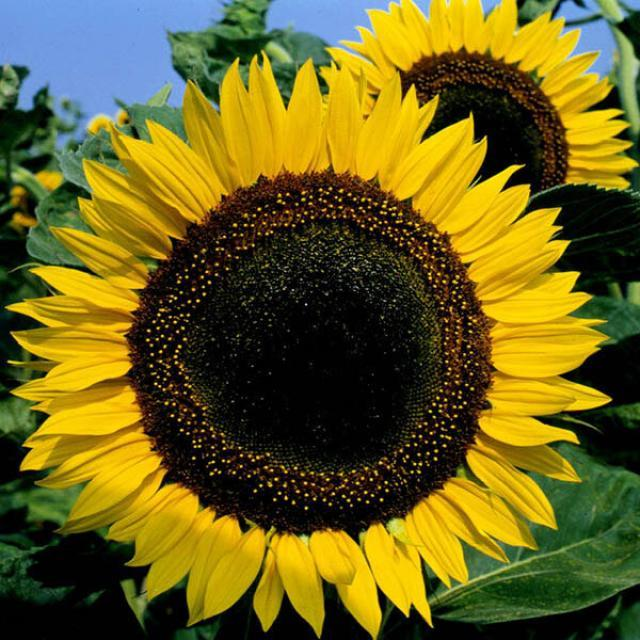sunflower: (6, 48, 614, 638), (322, 0, 637, 196), (8, 170, 63, 227), (88, 115, 111, 135), (116, 109, 132, 127)
